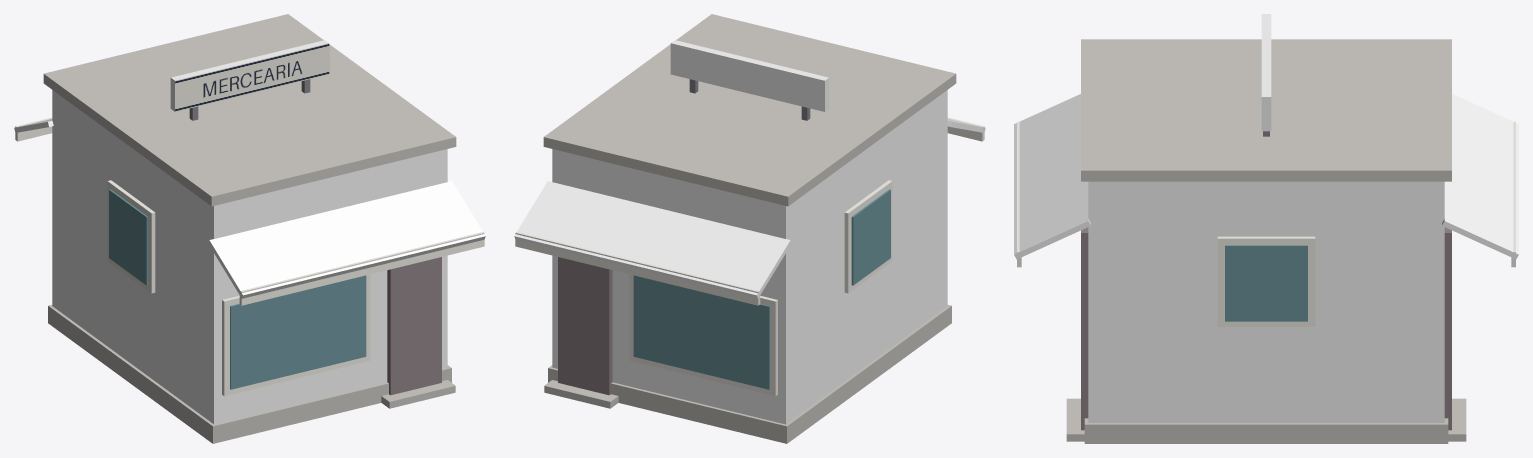
Rendered from loja.glb.
3 views of the same model, side by side, from view 1: azimuth 30°, elevation 25°; view 2: azimuth 150°, elevation 25°; view 3: azimuth 270°, elevation 25° (orthographic). The views are drawn at different scales.
Visible parts, largest first — view 1: Loja; view 2: Loja; view 3: Loja.
Part boxes in pixels (x1=…): Loja: x1=14, y1=14, x2=485, y2=443; Loja: x1=514, y1=14, x2=985, y2=443; Loja: x1=1014, y1=14, x2=1518, y2=443.
Bounding box in the file's own units: 2.62 × 3.01 × 4.25.
10 materials, 1 textured.
